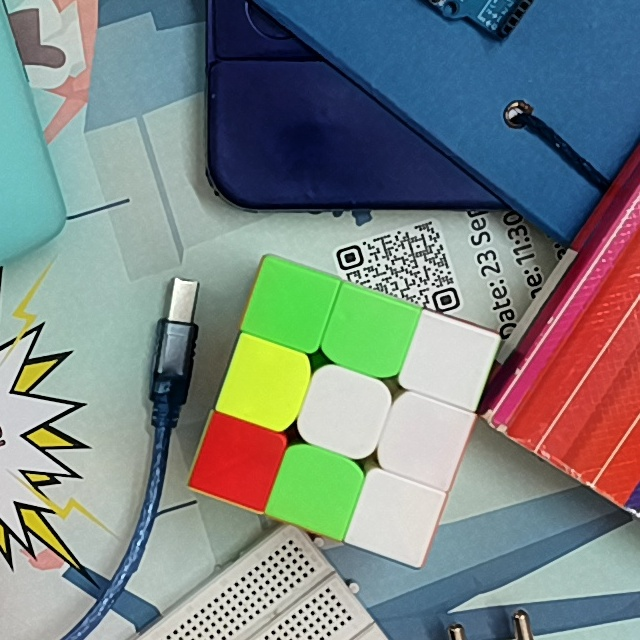tile: (338, 305, 399, 365), (313, 381, 374, 441), (419, 332, 478, 393), (395, 409, 451, 472), (237, 356, 294, 415), (209, 430, 266, 489), (286, 461, 345, 518), (262, 278, 319, 335), (366, 487, 422, 545)
